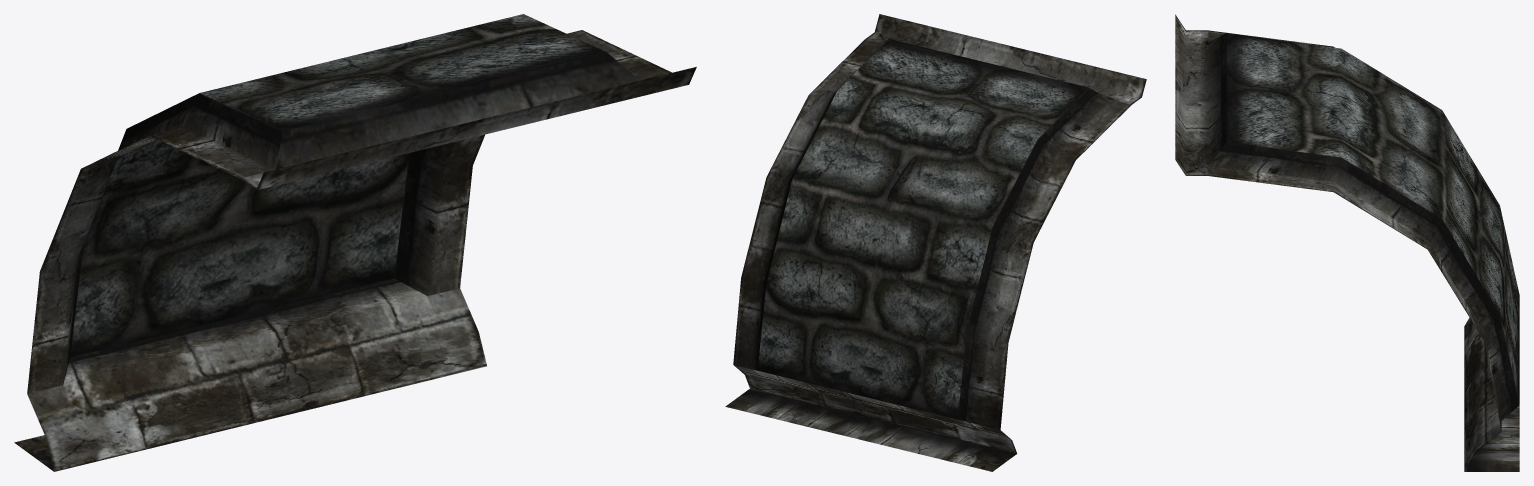
Rendered from concave_short.dae.
3 renders of one model, left to right at view 1: azimuth 30°, elevation 25°; view 2: azimuth 150°, elevation 25°; view 3: azimuth 270°, elevation 25°, orthographic. The views are drawn at different scales.
Parts seen in each view (by area): view 1: pCube1; view 2: pCube1; view 3: pCube1.
Boxes of the visible parts, bbox=[...] form: pCube1: bbox=[14, 14, 696, 471]; pCube1: bbox=[725, 14, 1146, 471]; pCube1: bbox=[1175, 14, 1519, 471].
Bounding box in the file's own units: 2 × 2 × 2.
